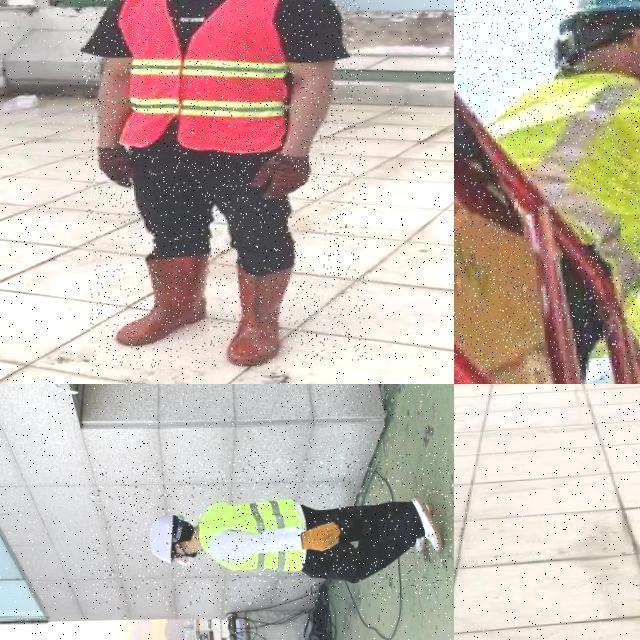boots: (115, 254, 212, 346), (226, 266, 294, 366), (406, 492, 448, 558)
helmet: (543, 0, 640, 58), (148, 510, 178, 570)
vest: (475, 65, 640, 360), (109, 0, 297, 155), (193, 496, 310, 578)
